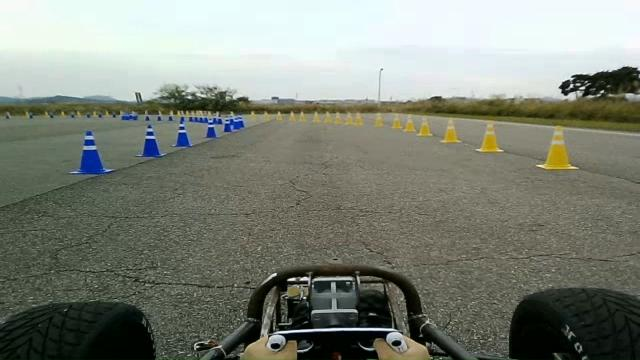blue cone: (68, 130, 114, 174), (135, 124, 166, 157), (170, 117, 193, 147), (203, 122, 220, 138), (232, 115, 245, 129), (222, 120, 232, 132)
yellow cone: (535, 124, 579, 170), (475, 120, 504, 152), (439, 117, 462, 143), (416, 116, 433, 136), (403, 114, 416, 132), (390, 113, 402, 129), (374, 112, 384, 127), (354, 112, 364, 126), (345, 111, 353, 125), (323, 111, 332, 123), (312, 110, 321, 122), (334, 111, 342, 124), (298, 110, 306, 122), (288, 110, 296, 122), (275, 110, 283, 120), (263, 110, 270, 120), (250, 110, 257, 120)
